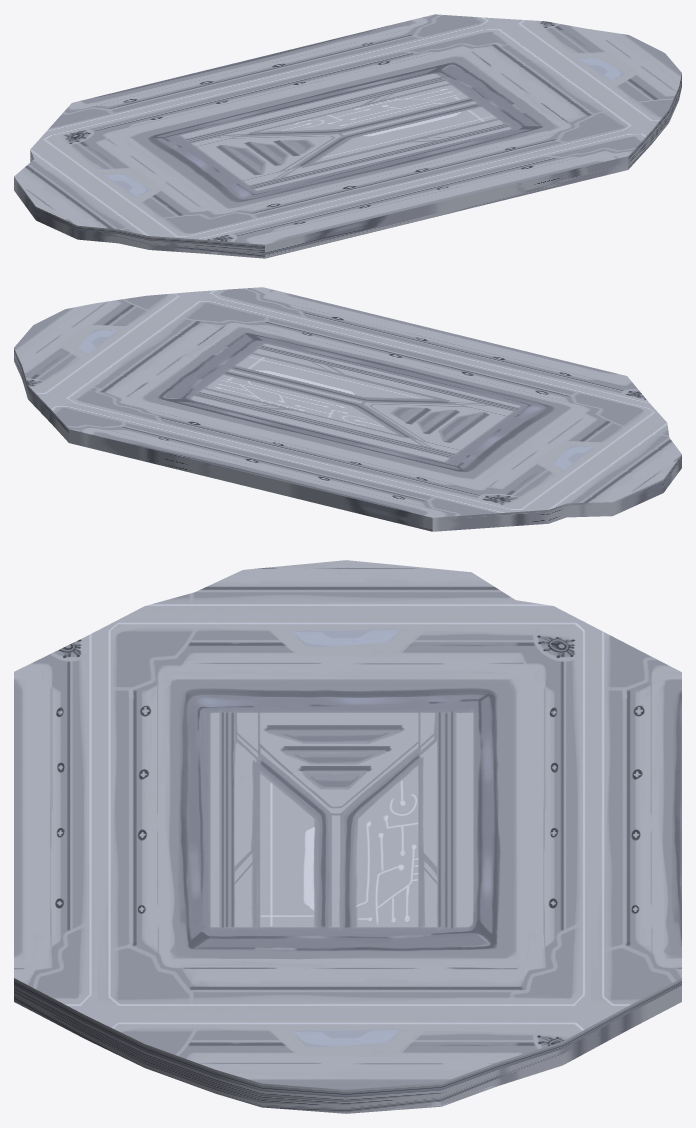
File: basicWall_1.fbx
3 views of the same model, one above another, from view 1: azimuth 30°, elevation 25°; view 2: azimuth 150°, elevation 25°; view 3: azimuth 270°, elevation 25° (orthographic). The views are drawn at different scales.
Parts seen in each view (by area): view 1: floor; view 2: floor; view 3: floor.
Part boxes in pixels (x1,y1,x2,y2): floor: (14,14,681,258); floor: (14,287,681,531); floor: (14,560,681,1113).
Bounding box in the file's own units: 948 × 20 × 505.
Materials: 1 (1 with a texture image).
